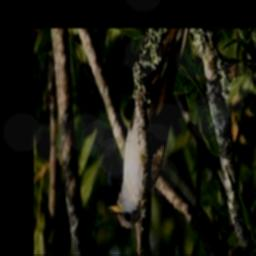Cuckoo: (107, 28, 190, 229)
